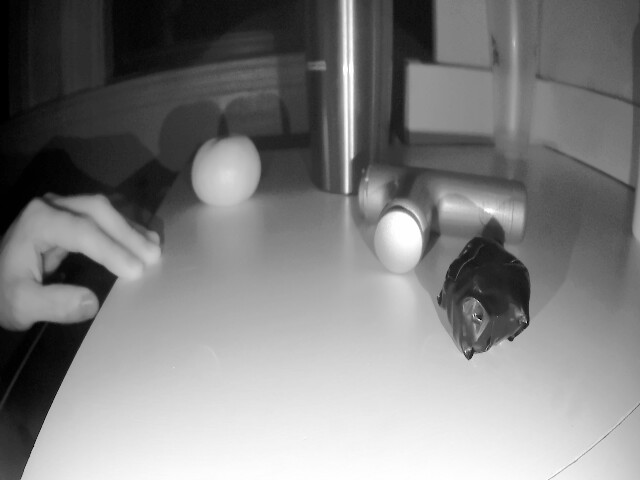black: (445, 244, 531, 394)
